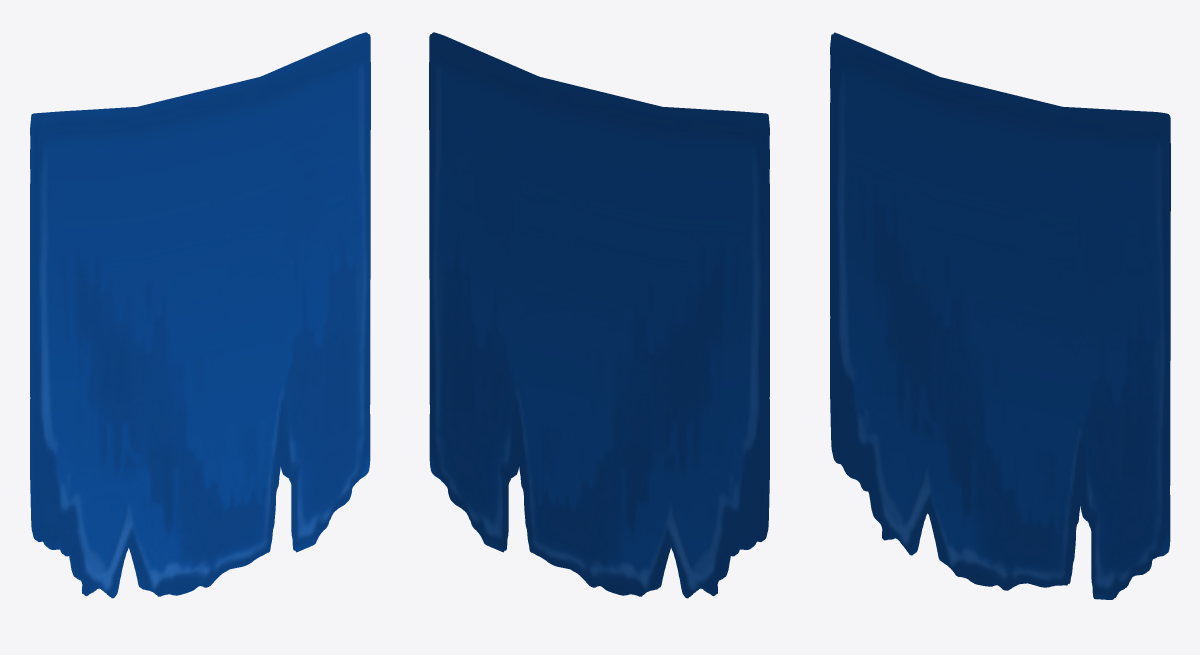
The model's file is DE_House_Mod_Part_30b.fbx.
The picture shows the model from 3 angles, left to right: view 1: azimuth 30°, elevation 25°; view 2: azimuth 150°, elevation 25°; view 3: azimuth 330°, elevation 25°; orthographic projection.
Visible parts, largest first — view 1: DE_House_Mod_Part_30b; view 2: DE_House_Mod_Part_30b; view 3: DE_House_Mod_Part_30b.
Boxes of the visible parts, <box> form: DE_House_Mod_Part_30b: <box>30,32,370,598</box>; DE_House_Mod_Part_30b: <box>429,32,769,598</box>; DE_House_Mod_Part_30b: <box>830,32,1170,599</box>.
Bounding box in the file's own units: 0.8943 × 1.29 × 0.00929.
